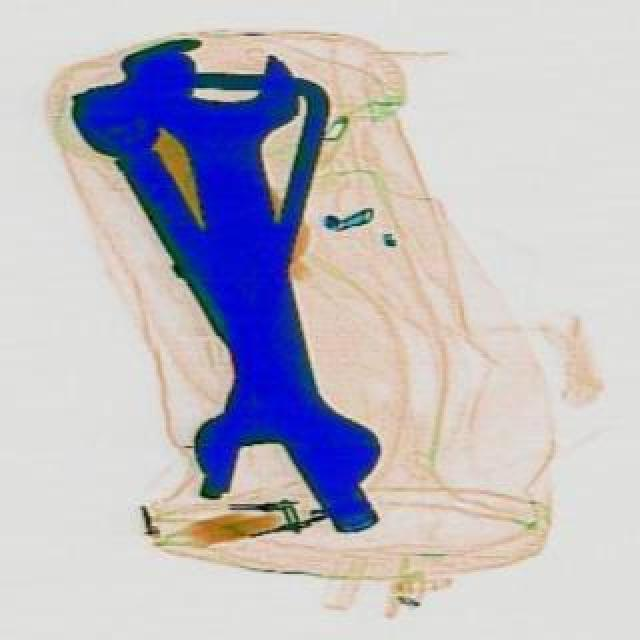scissors: (118, 32, 394, 516)
